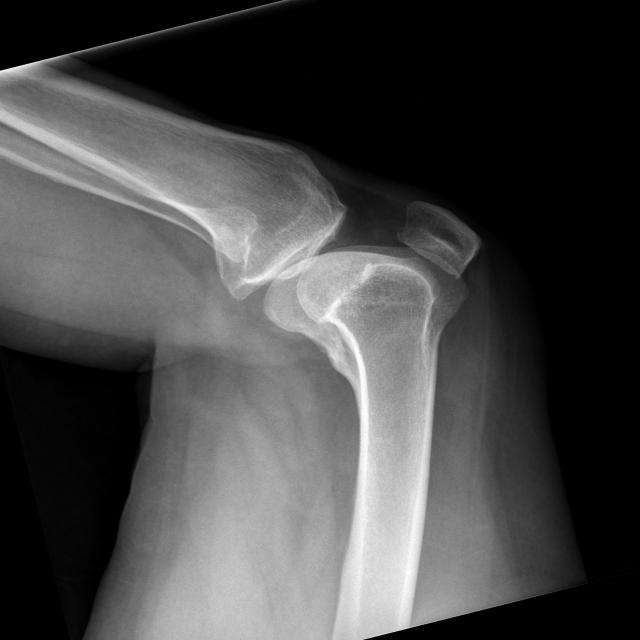Knee: (200, 132, 502, 378)
